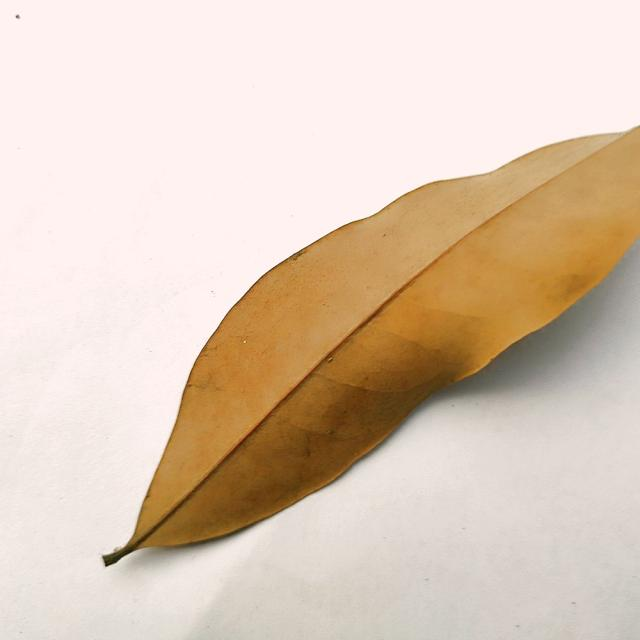Dry_Leaf-Lychee: (105, 126, 639, 564)
